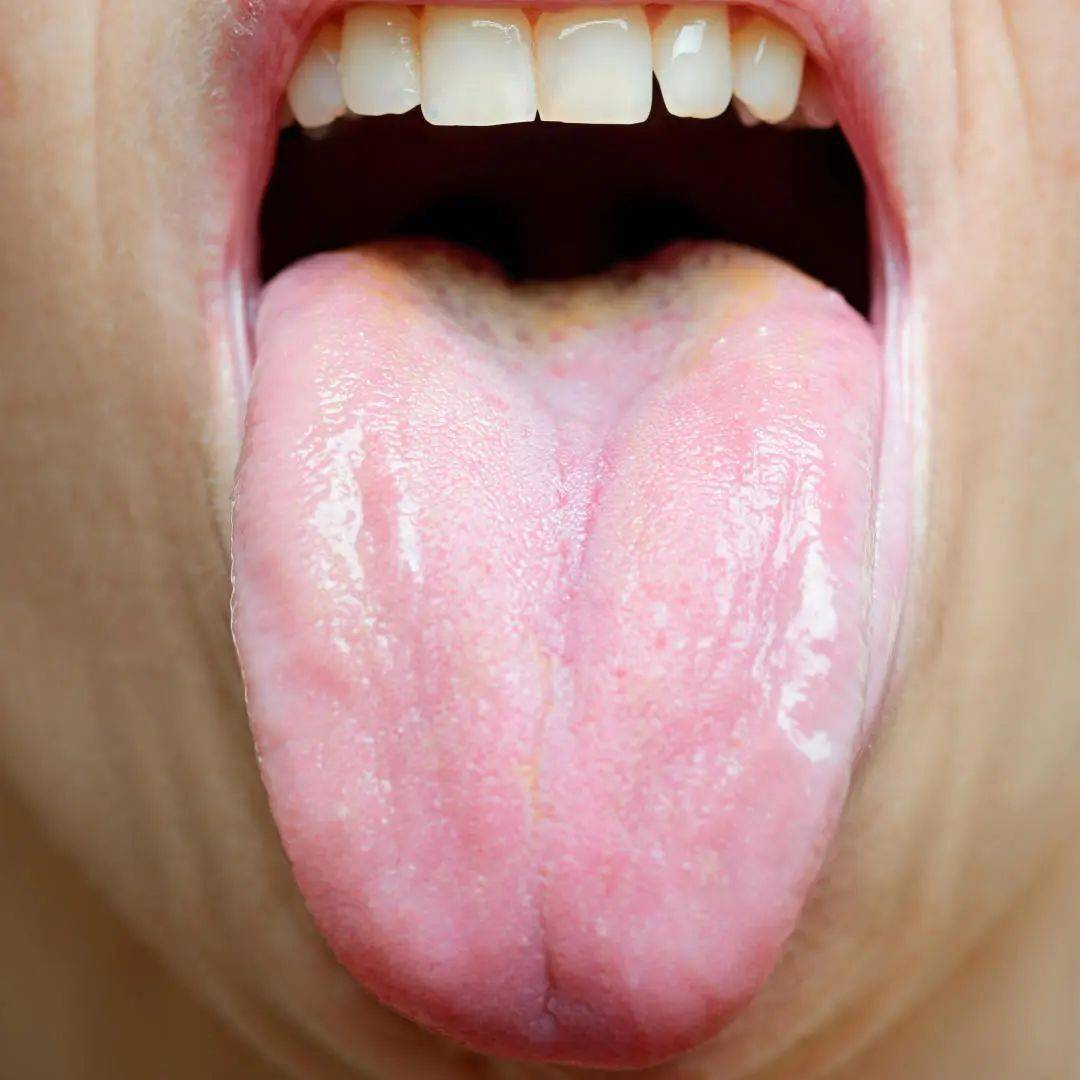hongshe: (228, 245, 876, 1060)
huangtaishe: (228, 244, 876, 1059)
